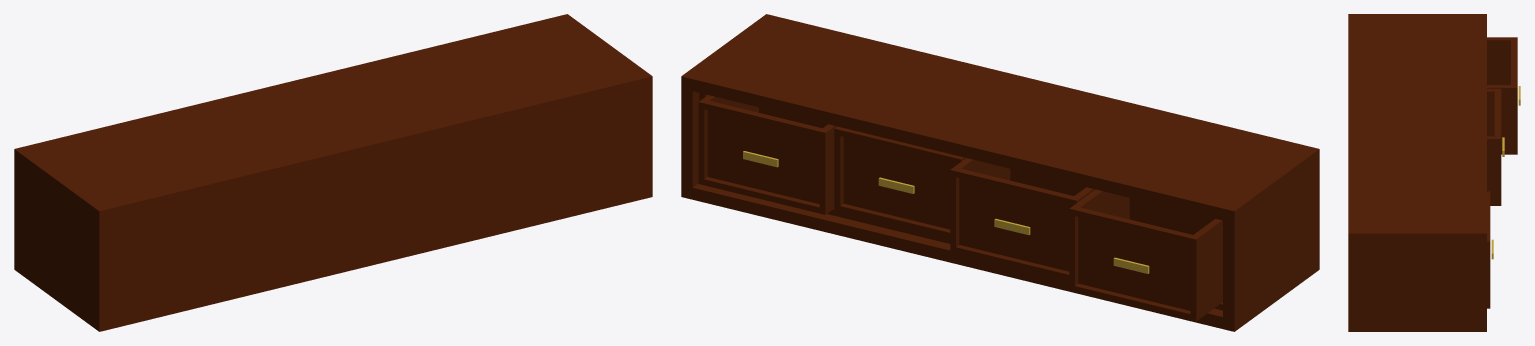
The model's file is Blockout_TVCabinet_02.fbx.
3 renders of one model, left to right at view 1: azimuth 30°, elevation 25°; view 2: azimuth 150°, elevation 25°; view 3: azimuth 270°, elevation 25°, orthographic. The views are drawn at different scales.
Visible parts, largest first — view 1: Unit_01; view 2: Unit_01, Drawer_01, Drawer_04, Drawer_02, Drawer_03; view 3: Unit_01, Drawer_01, Drawer_02, Drawer_04.
Part boxes in pixels (x1,y1,x2,y2): Unit_01: (14, 14, 652, 331); Unit_01: (681, 14, 1319, 331); Drawer_01: (1069, 189, 1222, 321); Drawer_04: (698, 95, 836, 214); Drawer_02: (950, 158, 1095, 280); Drawer_03: (834, 126, 965, 238); Unit_01: (1348, 14, 1486, 331); Drawer_01: (1487, 37, 1520, 154); Drawer_02: (1487, 88, 1504, 205); Drawer_04: (1487, 191, 1493, 308).
Bounding box in the file's own units: 240 × 50 × 79.61.
